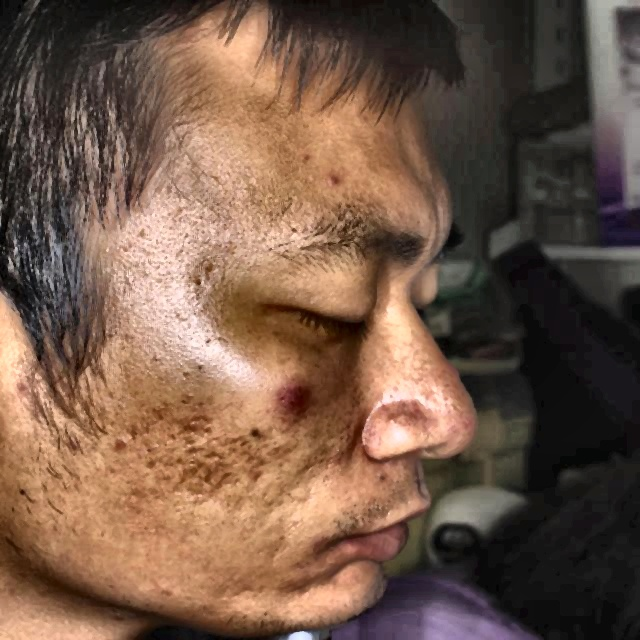comedone: (274, 374, 310, 417)
